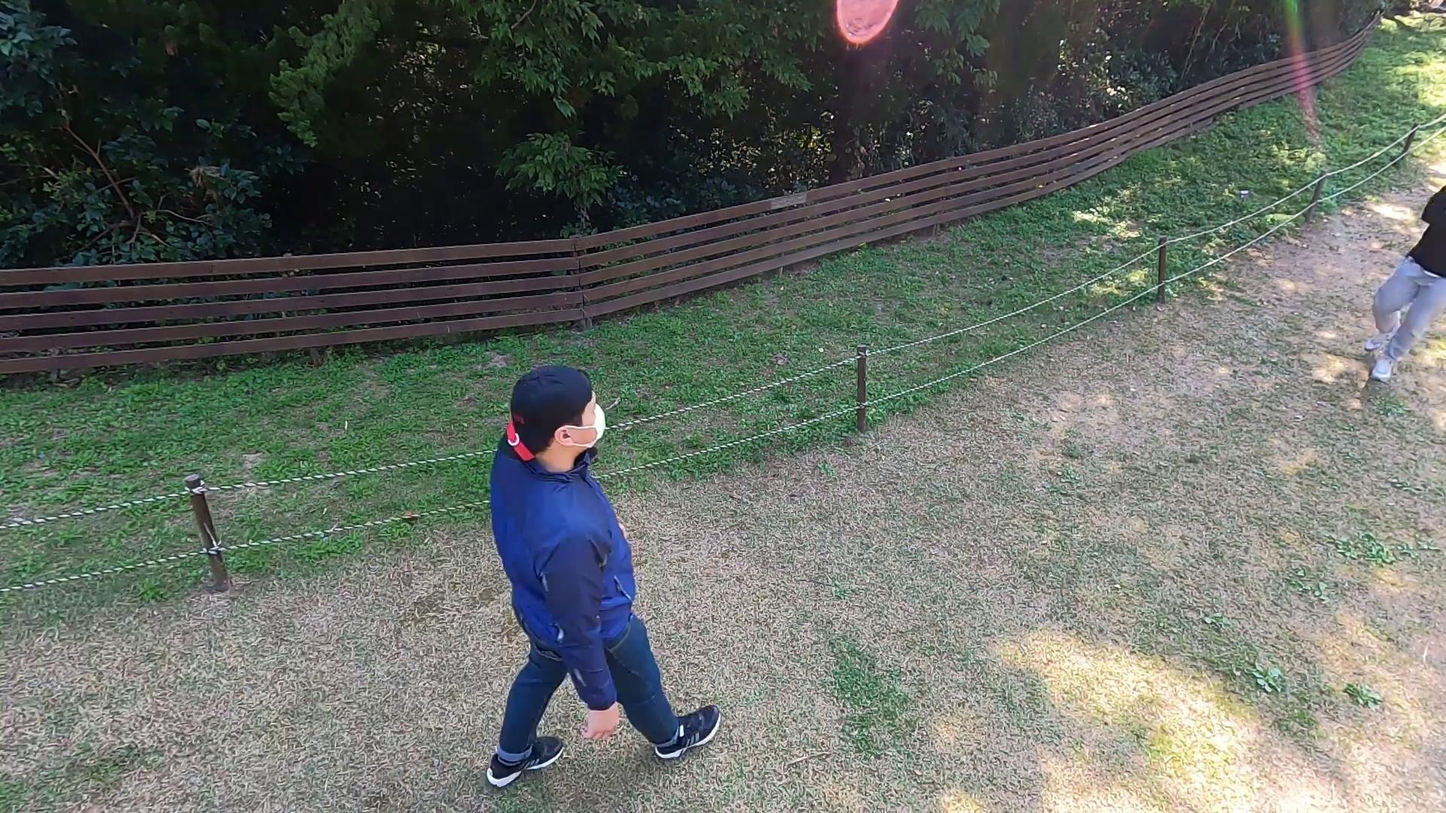person: (478, 364, 724, 791), (1360, 167, 1446, 379)
